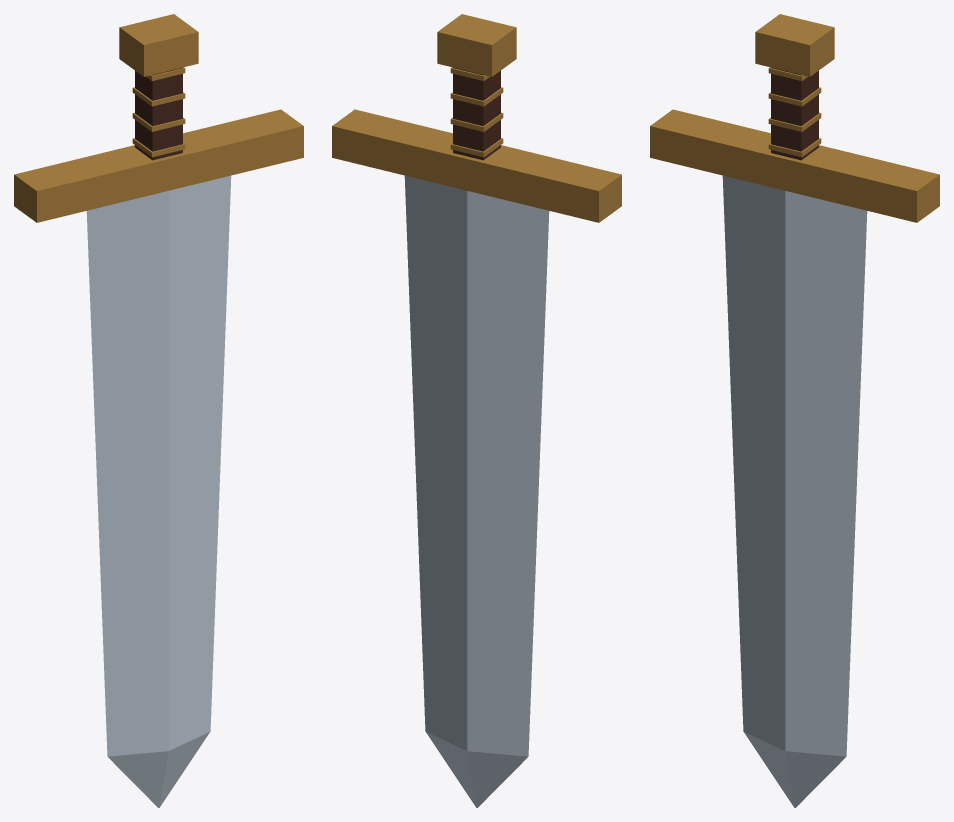
Rendered from knight_ultimate_sword.glb.
The picture shows the model from 3 angles, left to right: view 1: azimuth 30°, elevation 25°; view 2: azimuth 150°, elevation 25°; view 3: azimuth 330°, elevation 25°; orthographic projection.
Parts seen in each view (by area): view 1: ColossalSword, Crossguard, Pommel, Grip; view 2: ColossalSword, Crossguard, Pommel, Grip; view 3: ColossalSword, Crossguard, Pommel, Grip.
Part boxes in pixels (x1,y1,x2,y2): ColossalSword: (86,175,231,807); Crossguard: (14,109,303,222); Pommel: (119,14,198,76); Grip: (135,67,182,160); ColossalSword: (404,175,549,807); Crossguard: (332,109,621,222); Pommel: (437,14,516,76); Grip: (453,67,500,160); ColossalSword: (722,175,867,807); Crossguard: (650,109,939,222); Pommel: (755,14,834,76); Grip: (771,67,818,160).
Size of the model in its own units: 8.8 by 24.5 by 1.4.
